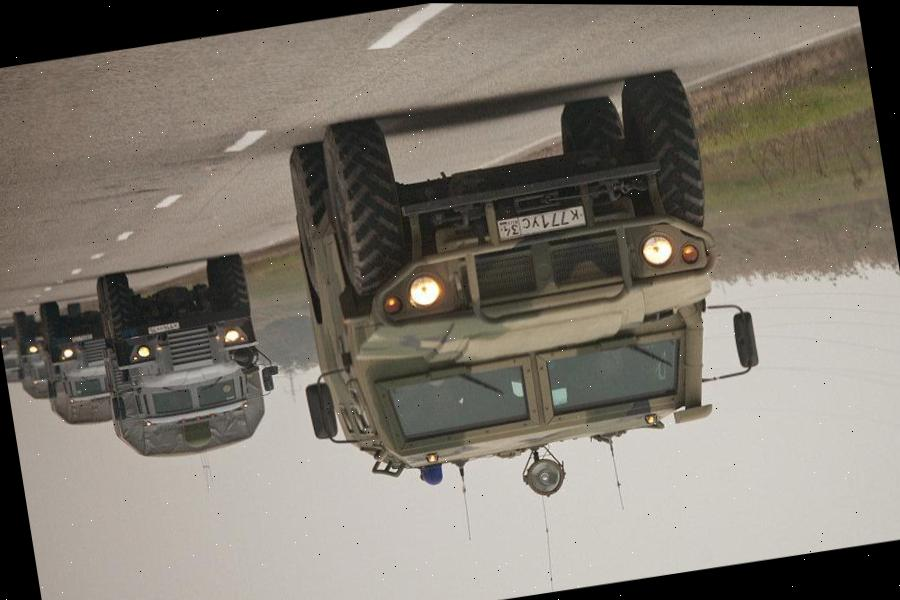armored_car: (262, 59, 774, 534)
truck: (90, 249, 290, 467), (35, 293, 118, 429), (8, 307, 54, 402), (0, 325, 22, 384)
